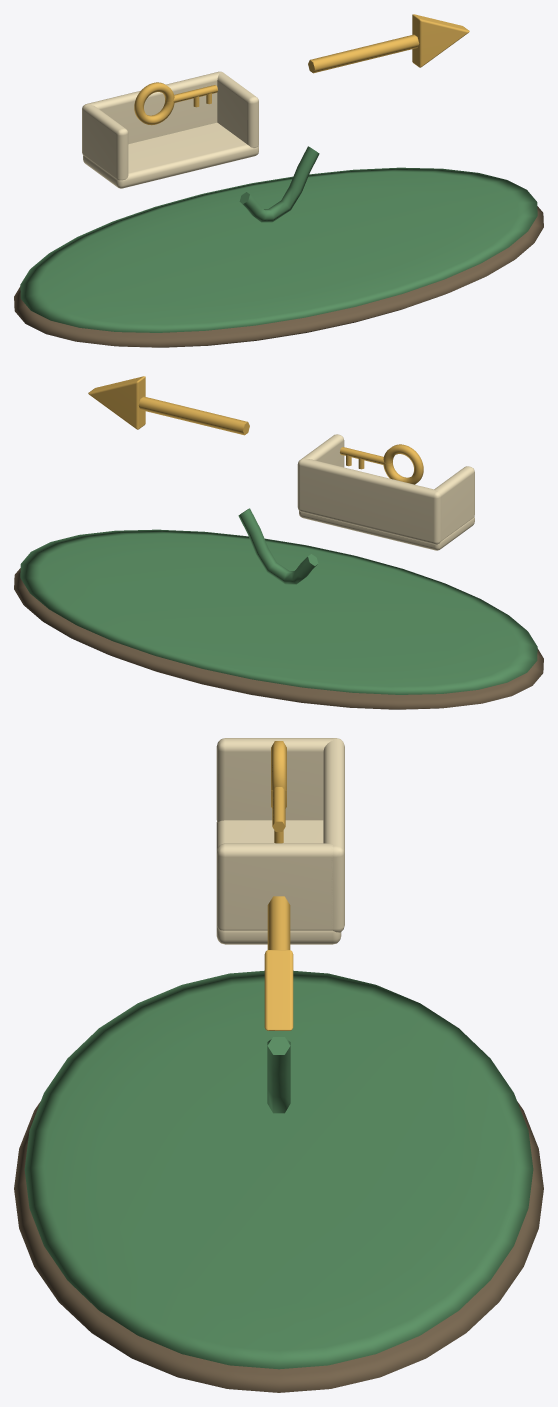
File: complete-first-easy-fit-container.glb
3 views of the same model, one above another, from view 1: azimuth 30°, elevation 25°; view 2: azimuth 150°, elevation 25°; view 3: azimuth 270°, elevation 25° (orthographic). The views are drawn at different scales.
Parts seen in each view (by area): view 1: complete-first-easy-fit-container_surface_01, complete-first-easy-fit-container_surface_02, complete-first-easy-fit-container_surface_00, complete-first-easy-fit-container_surface_03; view 2: complete-first-easy-fit-container_surface_01, complete-first-easy-fit-container_surface_02, complete-first-easy-fit-container_surface_00, complete-first-easy-fit-container_surface_03; view 3: complete-first-easy-fit-container_surface_01, complete-first-easy-fit-container_surface_02, complete-first-easy-fit-container_surface_00, complete-first-easy-fit-container_surface_03.
Part boxes in pixels (x1,y1,x2,y2): complete-first-easy-fit-container_surface_01: [20, 146, 537, 332]; complete-first-easy-fit-container_surface_02: [82, 71, 258, 188]; complete-first-easy-fit-container_surface_00: [14, 206, 543, 347]; complete-first-easy-fit-container_surface_03: [134, 14, 469, 125]; complete-first-easy-fit-container_surface_01: [20, 508, 537, 694]; complete-first-easy-fit-container_surface_02: [297, 434, 474, 550]; complete-first-easy-fit-container_surface_00: [14, 568, 543, 709]; complete-first-easy-fit-container_surface_03: [88, 376, 423, 484]; complete-first-easy-fit-container_surface_01: [24, 970, 533, 1369]; complete-first-easy-fit-container_surface_02: [216, 738, 344, 944]; complete-first-easy-fit-container_surface_00: [14, 1101, 543, 1392]; complete-first-easy-fit-container_surface_03: [264, 741, 293, 1030].
Bounding box in the file's own units: 4.56 × 1.95 × 2.5.
